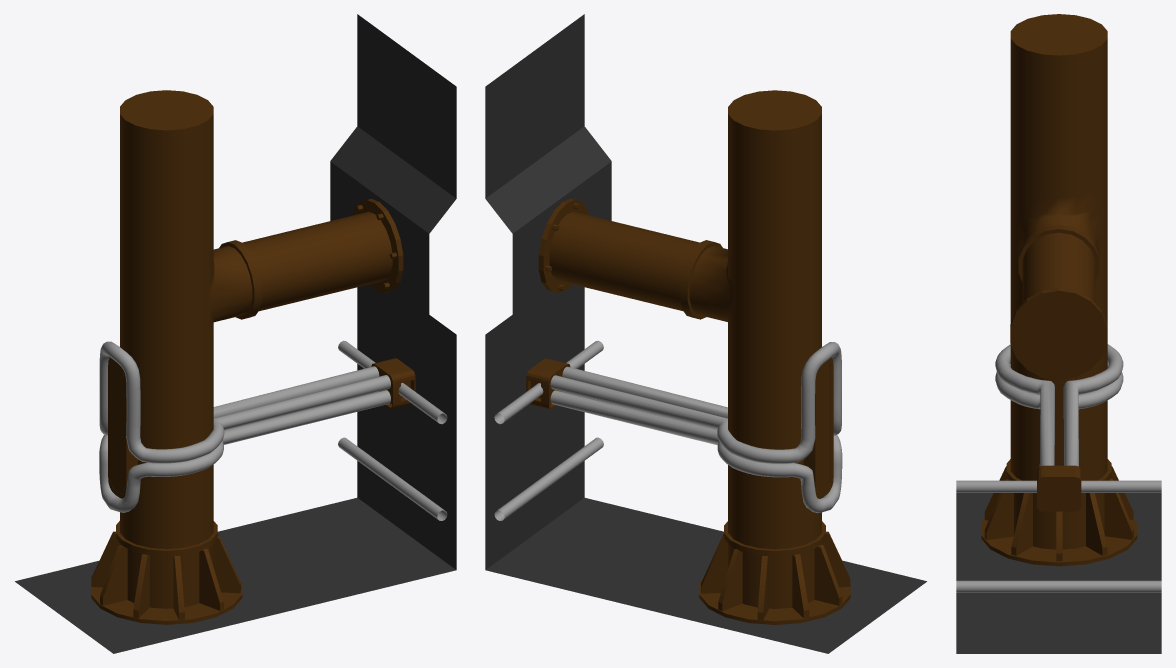
Rendered from Reactor_FuelCell.FBX.
3 renders of one model, left to right at view 1: azimuth 30°, elevation 25°; view 2: azimuth 150°, elevation 25°; view 3: azimuth 270°, elevation 25°, orthographic. The views are drawn at different scales.
Visible parts, largest first — view 1: Cylinder001, akke, Line001; view 2: Cylinder001, akke, Line001; view 3: Cylinder001, akke, Line001.
Boxes of the visible parts, left/top/right/bottom form: Cylinder001: left=91, top=90, right=415, bottom=624; akke: left=15, top=14, right=456, bottom=653; Line001: left=99, top=340, right=447, bottom=520; Cylinder001: left=526, top=90, right=850, bottom=624; akke: left=485, top=14, right=926, bottom=653; Line001: left=494, top=340, right=842, bottom=520; Cylinder001: left=981, top=14, right=1137, bottom=566; akke: left=956, top=493, right=1161, bottom=653; Line001: left=956, top=344, right=1161, bottom=592.
Bounding box in the file's own units: 200 × 270 × 100.
